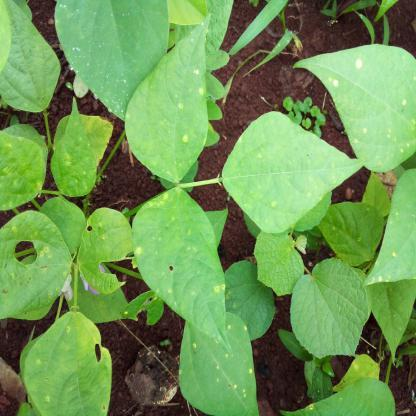Beans_Rust: (218, 113, 369, 227), (130, 186, 232, 348), (125, 8, 214, 182), (295, 45, 416, 172), (25, 313, 111, 416), (175, 321, 258, 416), (361, 170, 416, 288), (0, 133, 48, 210)
